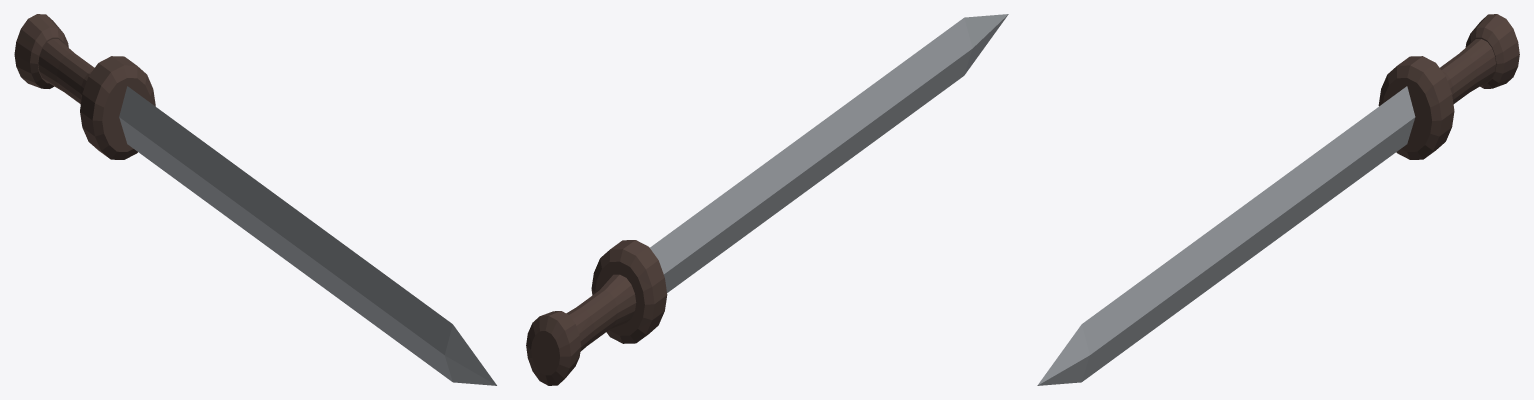
File: ThickSword.fbx
The picture shows the model from 3 angles, left to right: view 1: azimuth 30°, elevation 25°; view 2: azimuth 150°, elevation 25°; view 3: azimuth 330°, elevation 25°; orthographic projection.
Visible parts, largest first — view 1: 円柱.001; view 2: 円柱.001; view 3: 円柱.001.
Part boxes in pixels (x1=…): 円柱.001: x1=14, y1=14, x2=496, y2=385; 円柱.001: x1=526, y1=14, x2=1008, y2=385; 円柱.001: x1=1037, y1=14, x2=1519, y2=385.
Size of the model in its own units: 0.1478 by 0.2118 by 1.88.
